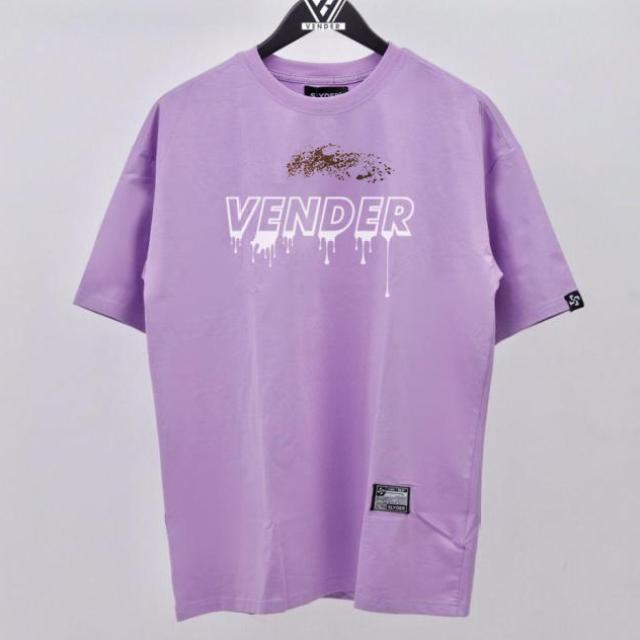stain: (286, 139, 400, 184)
